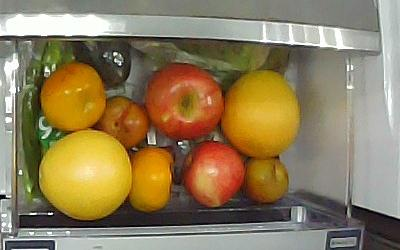apple: (145, 63, 224, 140), (182, 142, 245, 208)
grapefruit: (38, 130, 133, 220), (221, 69, 301, 158)
persimmon: (40, 63, 105, 131), (130, 146, 175, 212)
prune: (97, 96, 148, 148), (244, 158, 290, 204)
